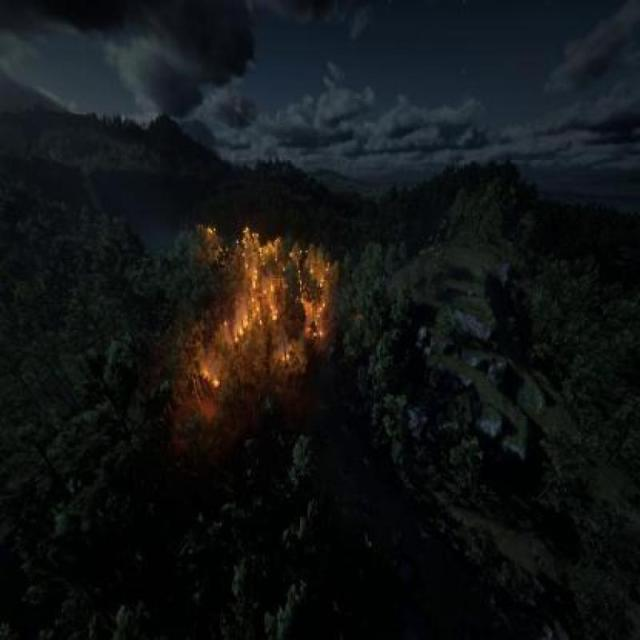Fire: (196, 211, 334, 406)
